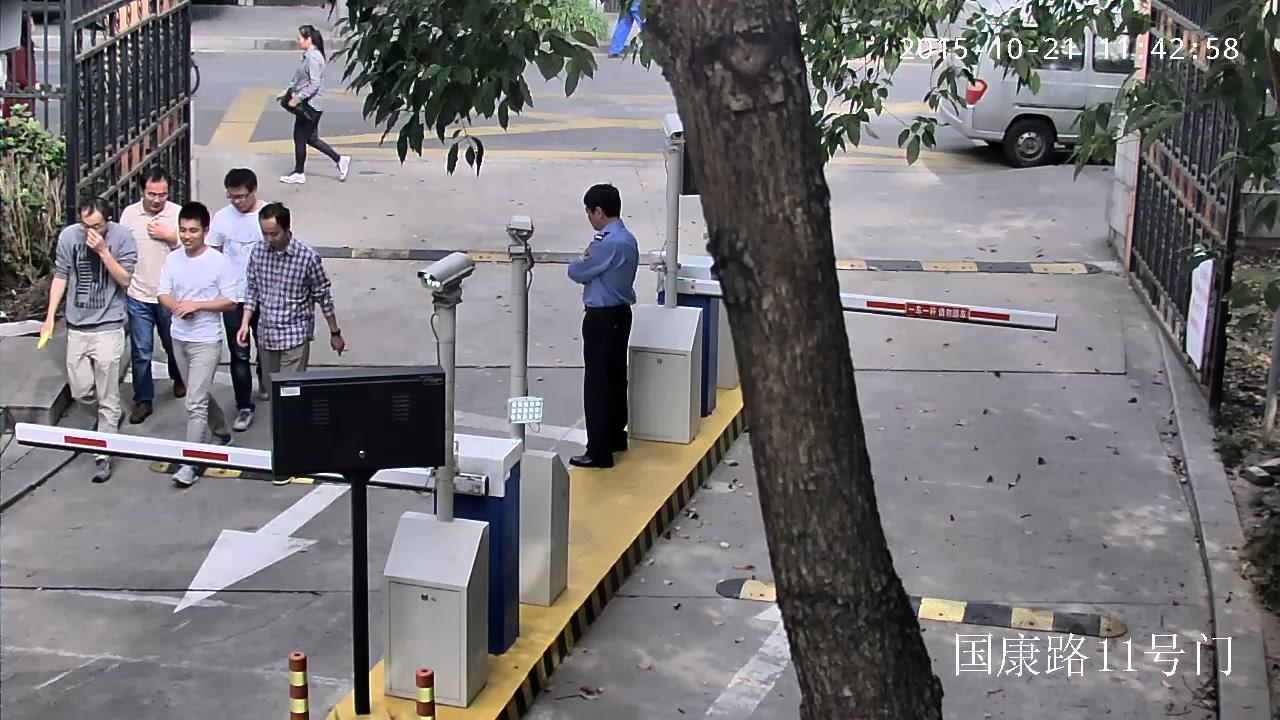person: (235, 201, 346, 486), (37, 194, 139, 483), (156, 200, 248, 486), (568, 183, 640, 470), (202, 167, 270, 432), (117, 166, 185, 424), (275, 24, 352, 184), (1, 12, 36, 120), (606, 0, 651, 57)
